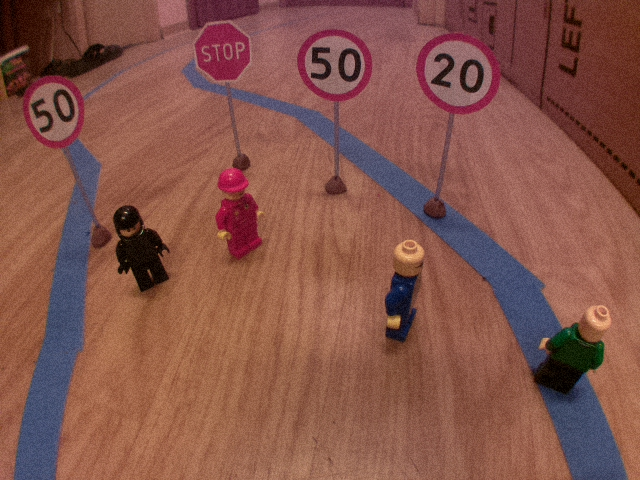LEGO_person: (531, 301, 614, 401), (378, 234, 430, 352), (210, 166, 273, 263)
ogr_20: (413, 30, 505, 117)
ogr_50: (295, 27, 375, 103), (19, 73, 89, 152)
stop: (192, 16, 254, 84)
